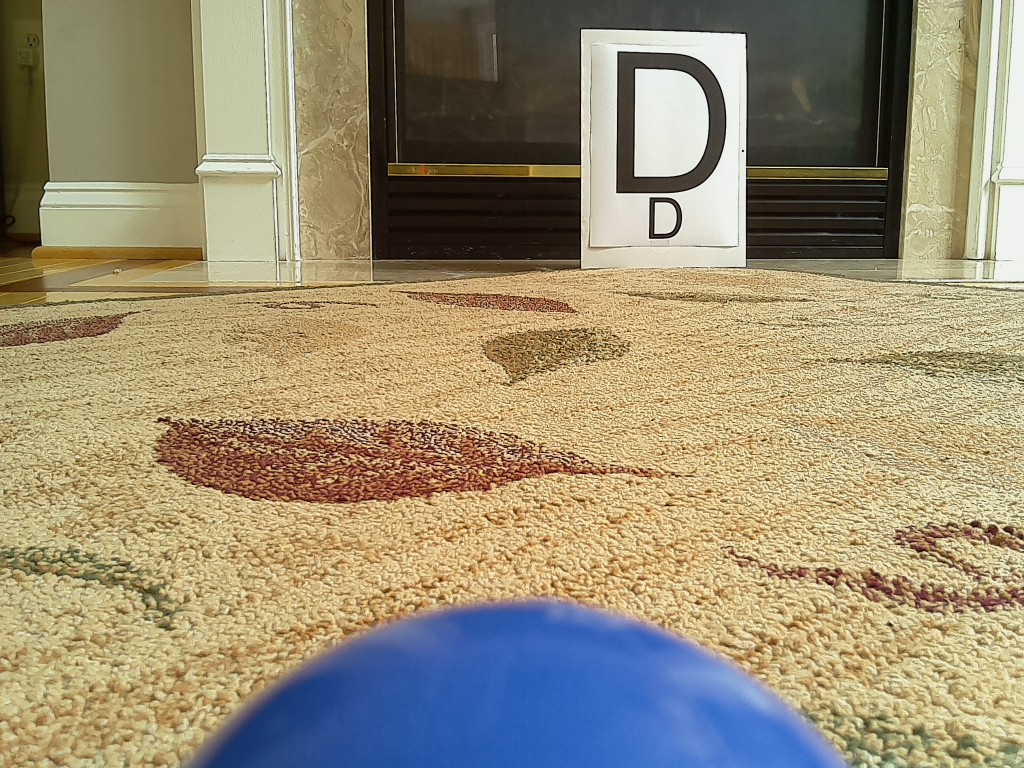letter: (618, 51, 727, 194)
